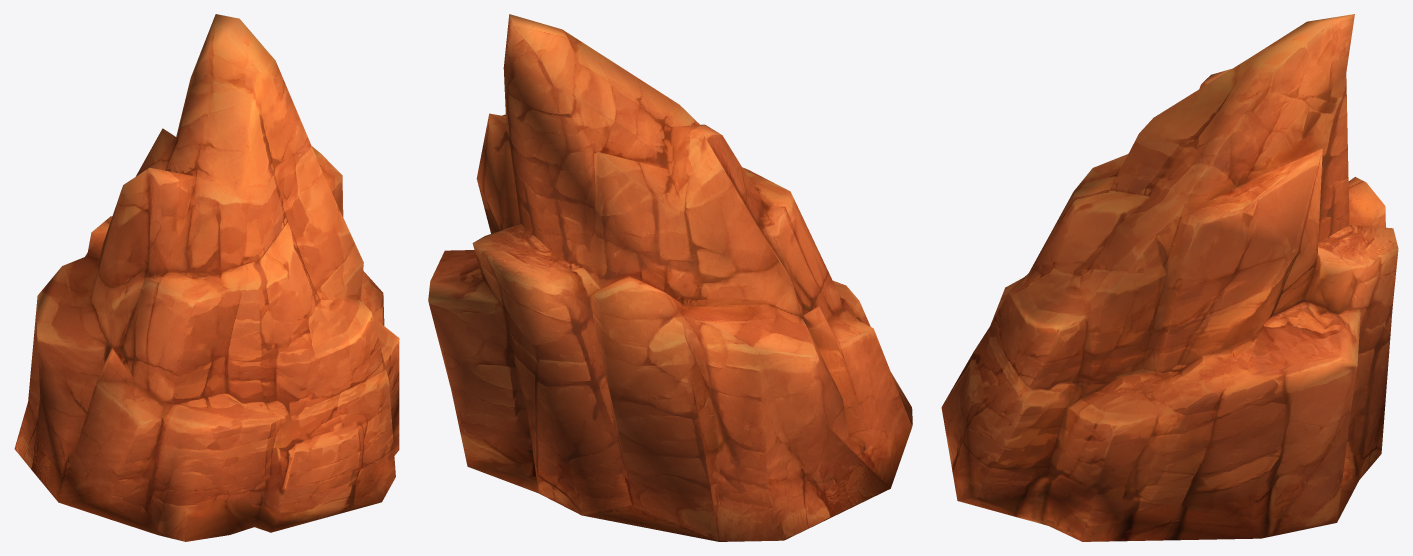
The model's file is Meshy_AI_Orange_Pinnacle_0512181923_texture.fbx.
The picture shows the model from 3 angles, left to right: view 1: azimuth 30°, elevation 25°; view 2: azimuth 150°, elevation 25°; view 3: azimuth 270°, elevation 25°; orthographic projection. The views are drawn at different scales.
Visible parts, largest first — view 1: Mesh_0; view 2: Mesh_0; view 3: Mesh_0.
Part boxes in pixels (x1,y1,x2,y2): Mesh_0: (14, 14, 399, 541); Mesh_0: (428, 14, 912, 541); Mesh_0: (941, 14, 1398, 541).
Size of the model in its own units: 179 by 192 by 165.
Materials: 1 (1 with a texture image).
